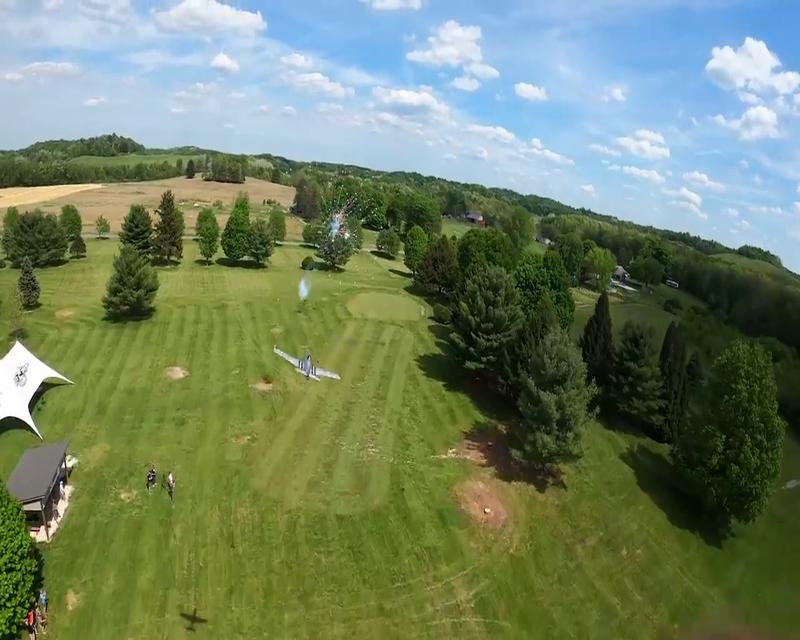UAV: (272, 343, 343, 382)
